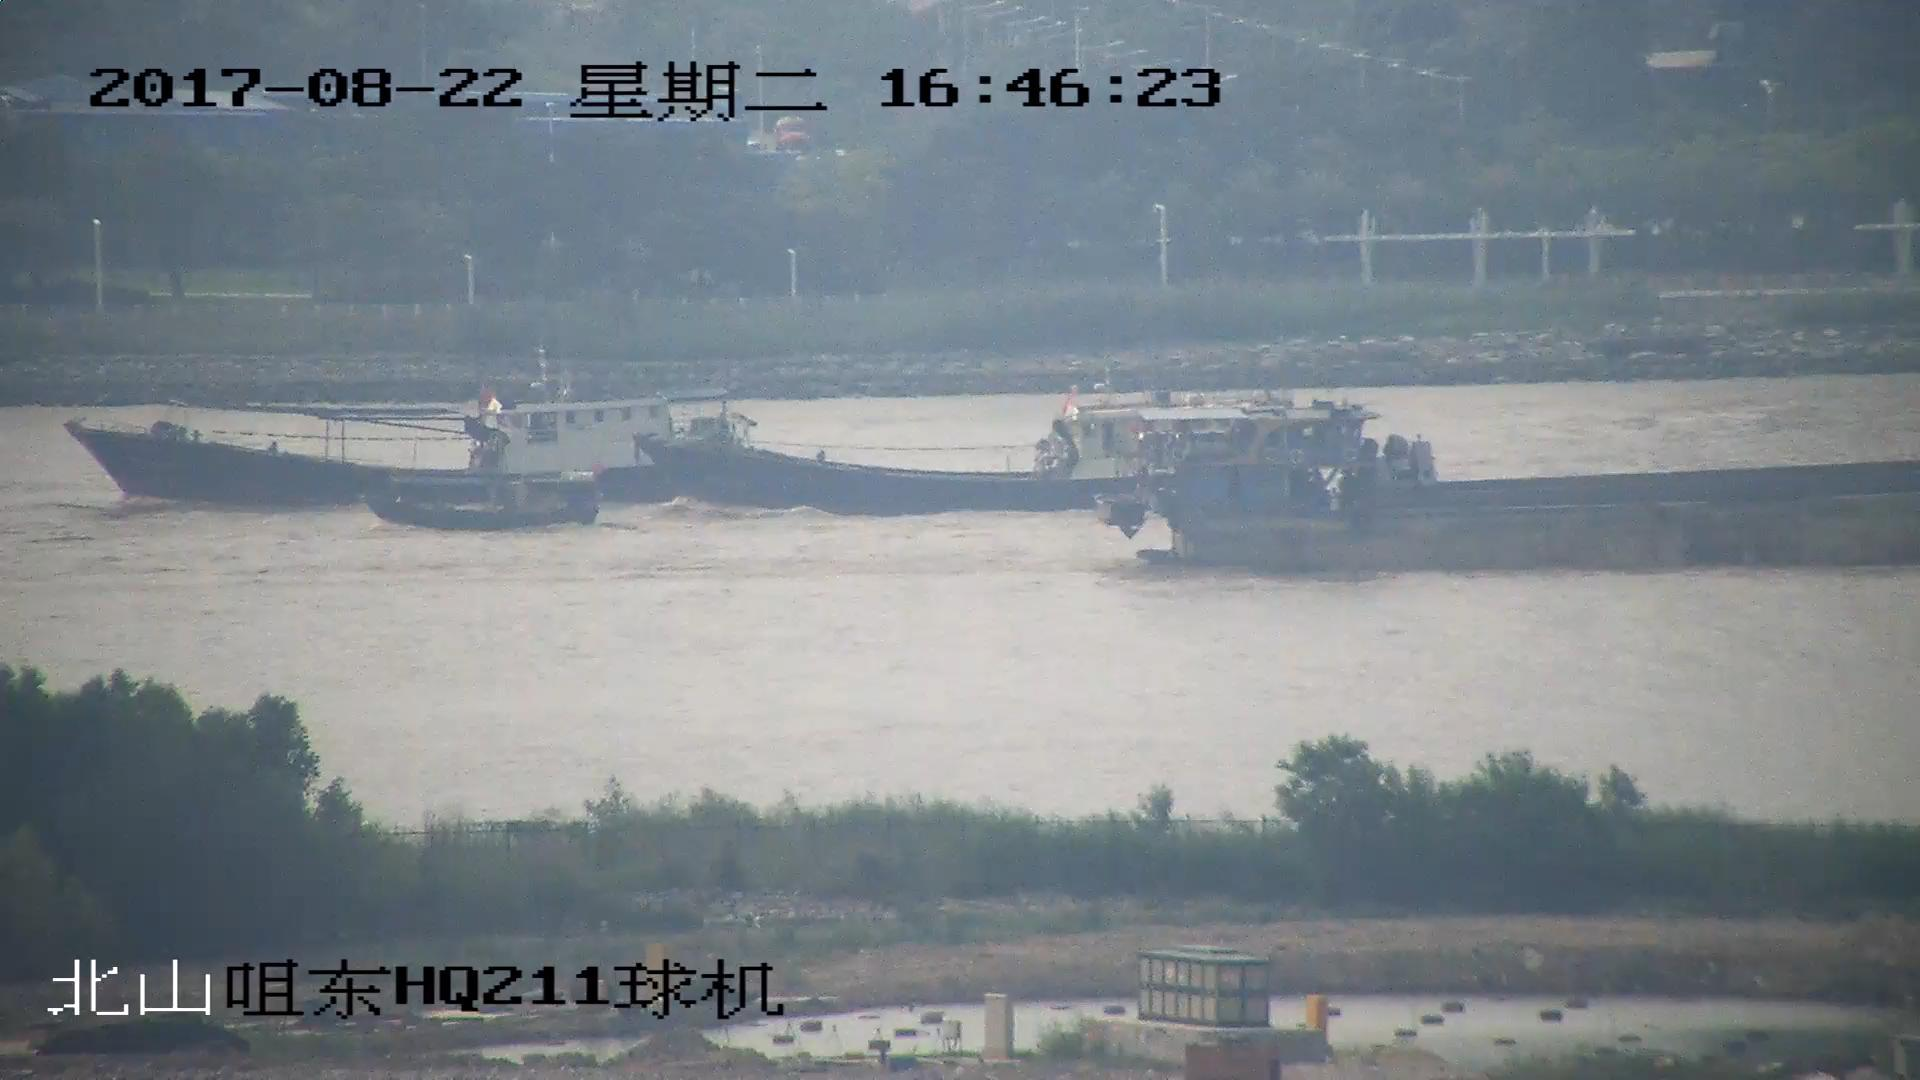Ship: (1102, 402, 1920, 574), (644, 385, 1375, 512), (71, 381, 752, 509), (360, 468, 603, 531)
